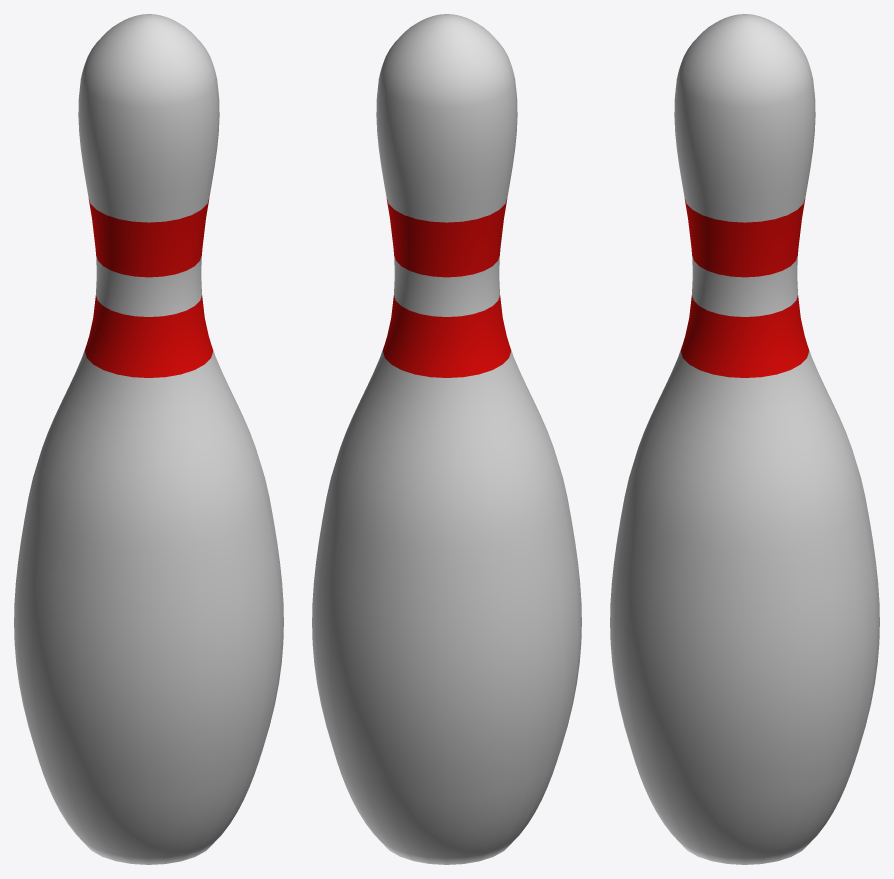
File: bowlingPin.fbx
3 renders of one model, left to right at view 1: azimuth 30°, elevation 25°; view 2: azimuth 150°, elevation 25°; view 3: azimuth 270°, elevation 25°, orthographic.
Parts seen in each view (by area): view 1: Bowling Pin; view 2: Bowling Pin; view 3: Bowling Pin.
Boxes of the visible parts, bbox=[...] form: Bowling Pin: bbox=[14, 14, 283, 864]; Bowling Pin: bbox=[312, 14, 581, 864]; Bowling Pin: bbox=[610, 14, 879, 864].
Size of the model in its own units: 10.97 by 36.73 by 10.97.
